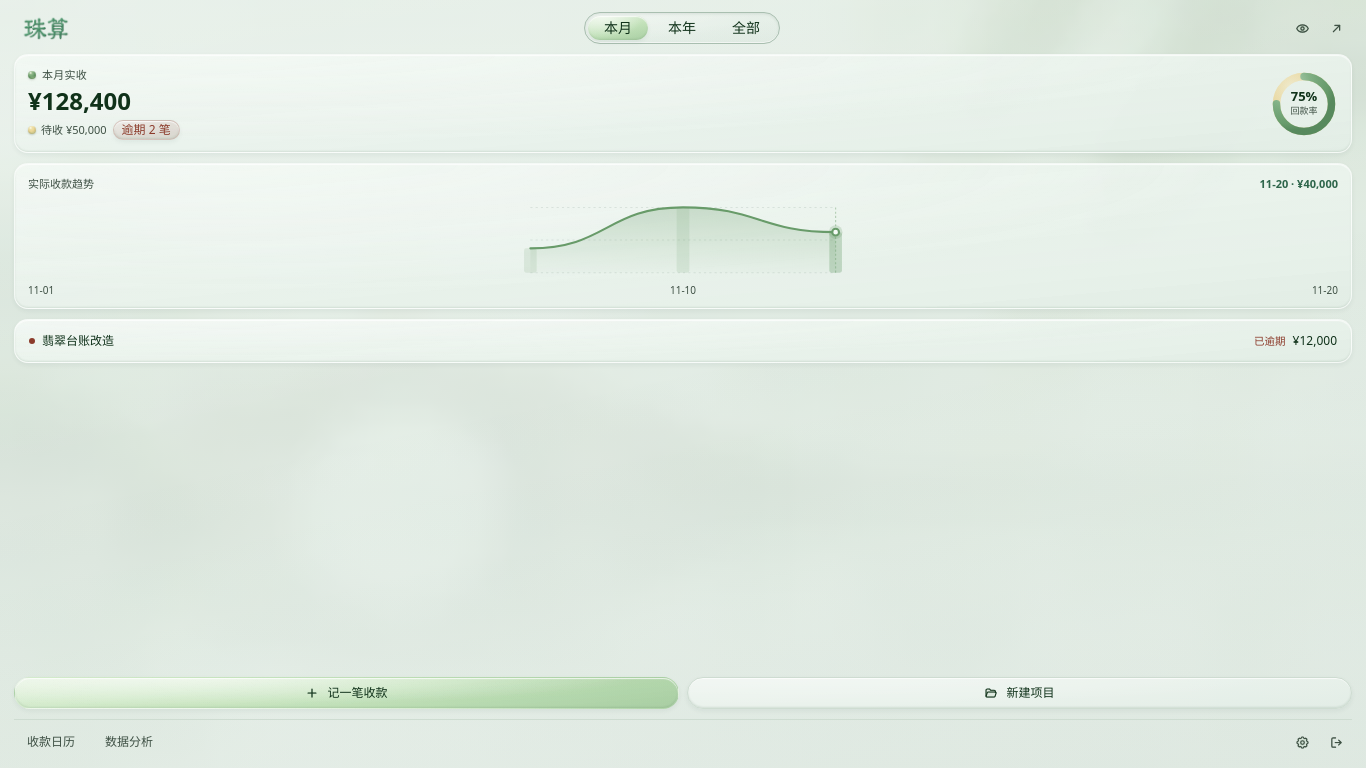
Test case: MenuBarPopoverView › does not let an older period request replace a newer period or label old amounts as current
The image size is (1366, 768).
Expected: the text "¥128,400" is shown, [28,84,131,116]
Click the radio button labelled "本年" at (682, 28), box [652,16,712,40]
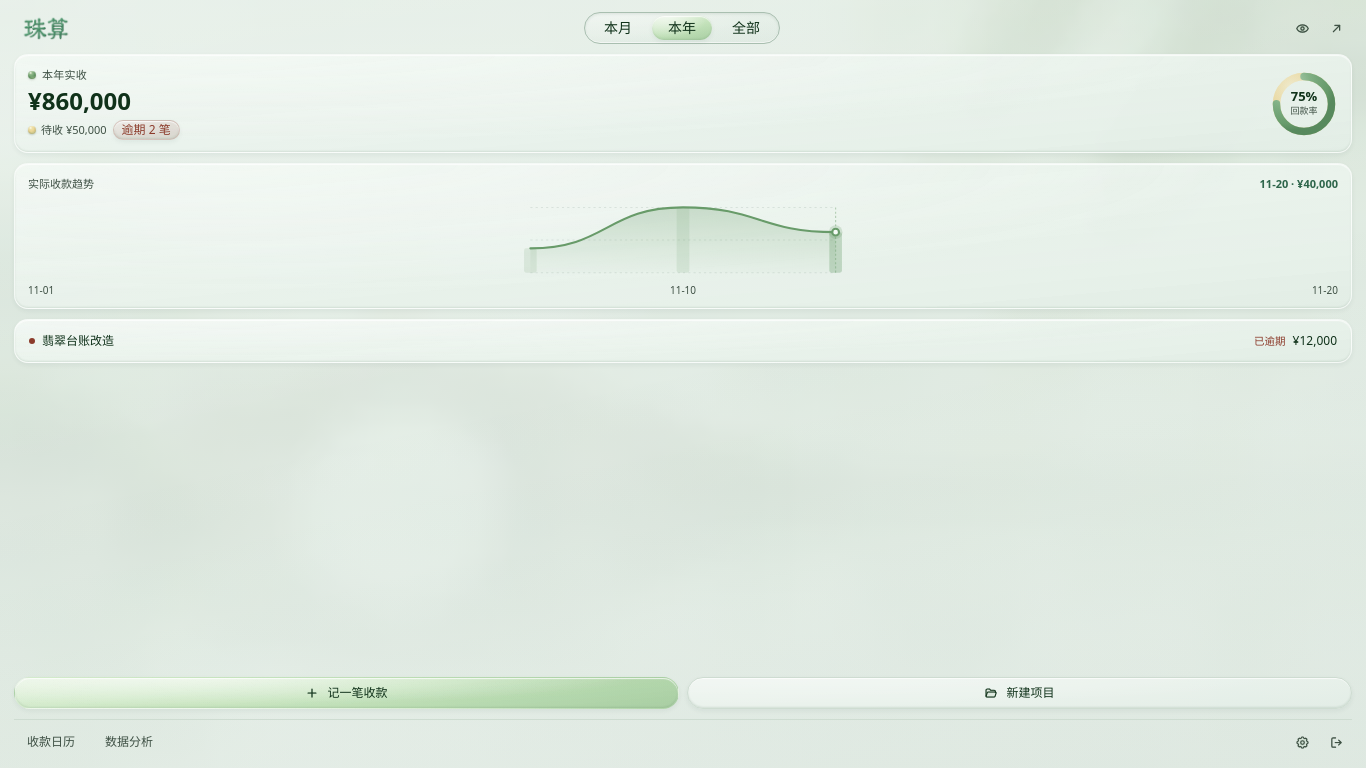
Expected: the text "¥860,000" is shown, [28,84,131,116]
Expected: the text "¥128,400" is gone
